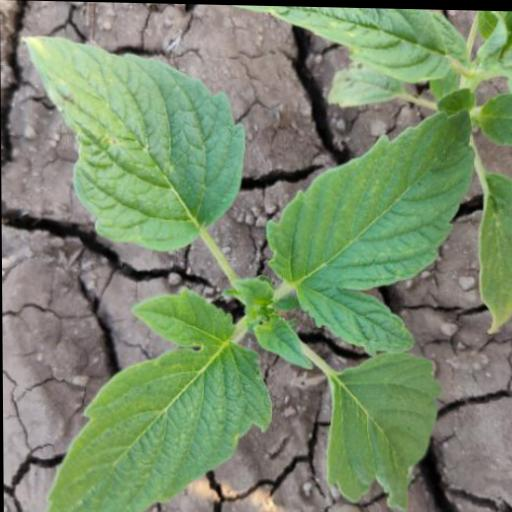crop: (7, 34, 499, 512)
